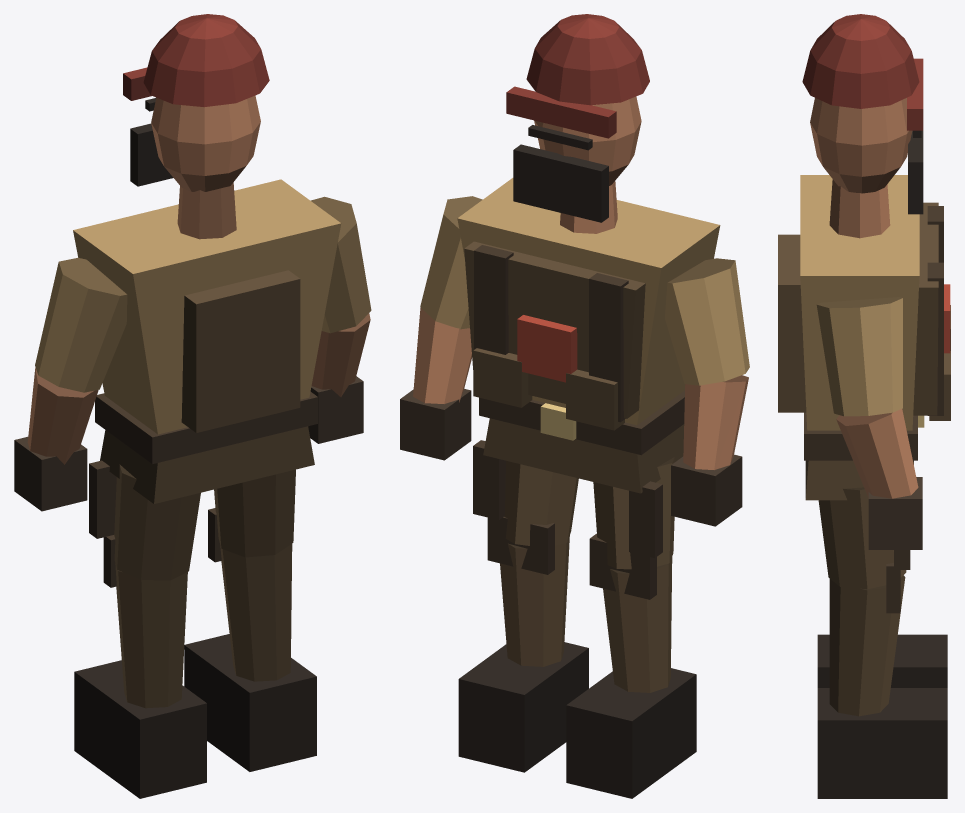
File: terrorist.obj
The picture shows the model from 3 angles, left to right: view 1: azimuth 30°, elevation 25°; view 2: azimuth 150°, elevation 25°; view 3: azimuth 270°, elevation 25°; orthographic projection. The views are drawn at different scales.
Parts seen in each view (by area): view 1: terrorist; view 2: terrorist; view 3: terrorist.
Part boxes in pixels (x1=…): terrorist: x1=14, y1=14, x2=371, y2=798; terrorist: x1=400, y1=14, x2=749, y2=798; terrorist: x1=778, y1=14, x2=950, y2=798.
Size of the model in its own units: 34.8 by 75 by 15.95.
Materials: 1 (1 with a texture image).
